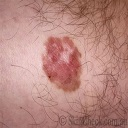Bowen: (42, 36, 84, 92)
